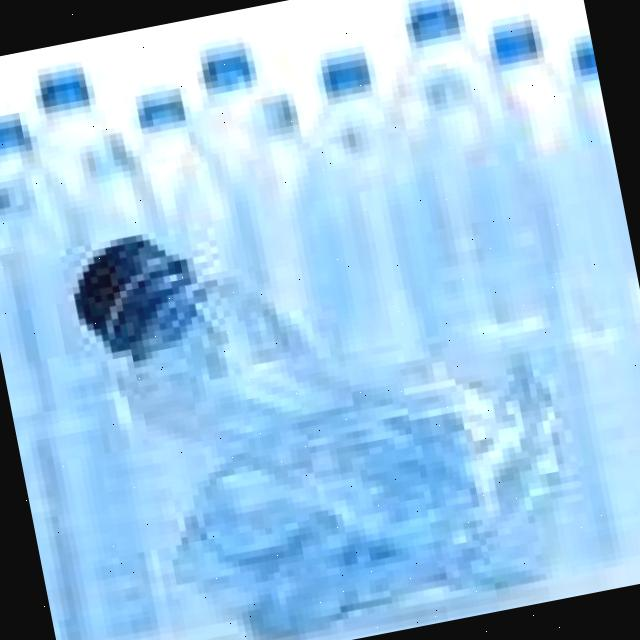trash: (61, 158, 622, 640)
